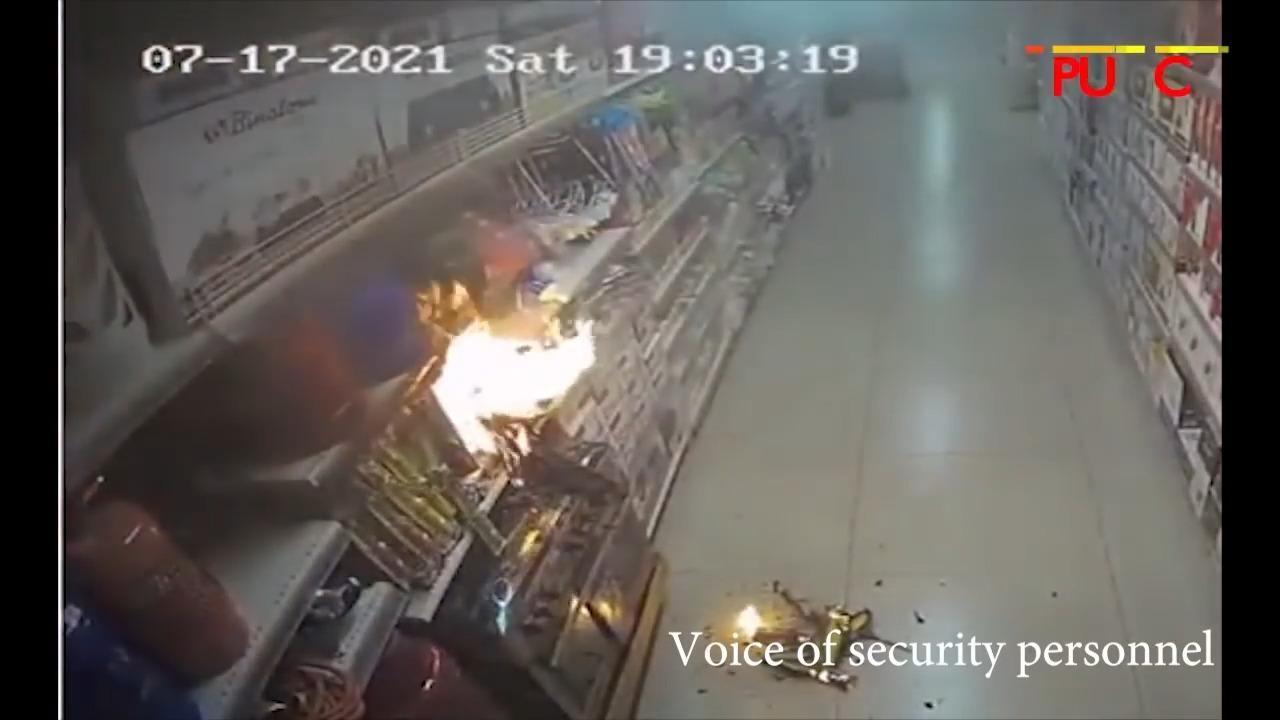fire: (429, 319, 596, 452), (736, 605, 762, 631)
